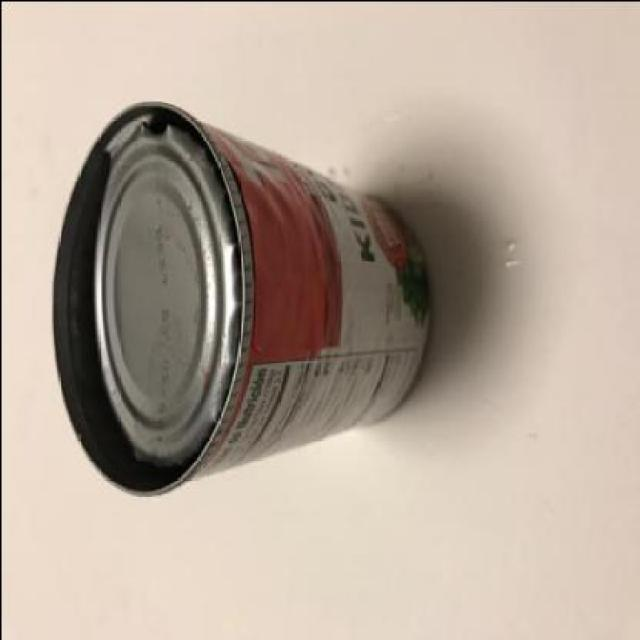METAL: (48, 98, 427, 494)
